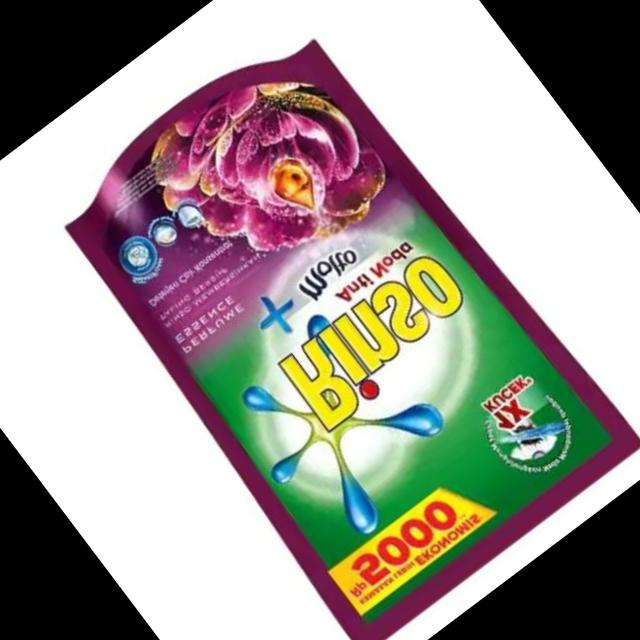KemasanPlastik: (23, 1, 640, 640)
